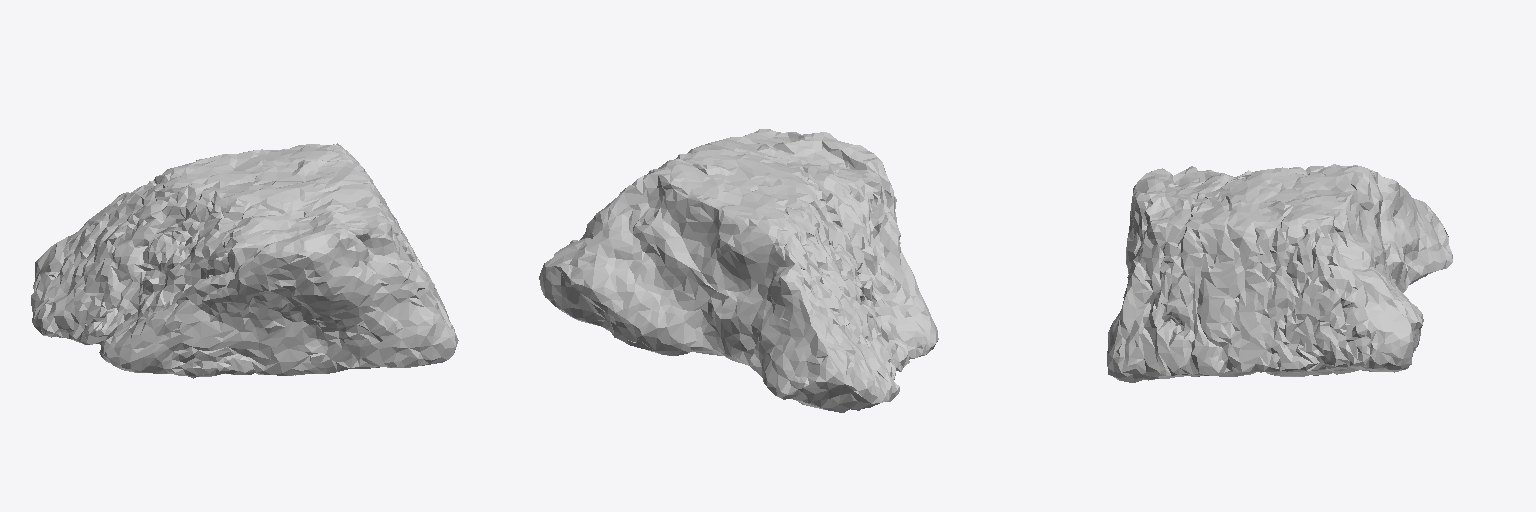
Rendered from rock2.obj.
3 renders of one model, left to right at view 1: azimuth 30°, elevation 25°; view 2: azimuth 150°, elevation 25°; view 3: azimuth 270°, elevation 25°, orthographic.
Visible parts, largest first — view 1: moss_rock_09; view 2: moss_rock_09; view 3: moss_rock_09.
Part boxes in pixels (x1,y1,x2,y2): moss_rock_09: (31,143,458,378); moss_rock_09: (539,129,938,412); moss_rock_09: (1107,164,1452,382).
Size of the model in its own units: 1.2 by 0.5287 by 1.05.